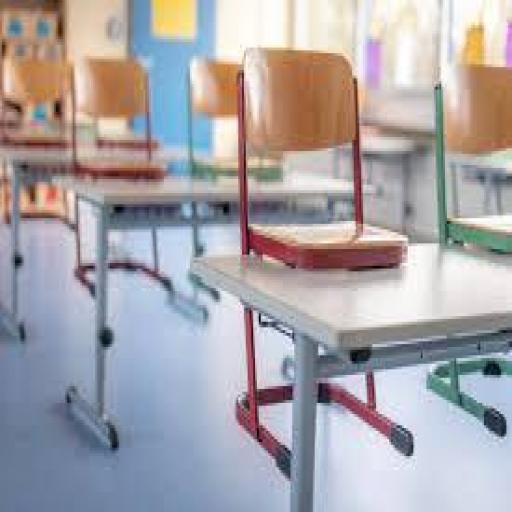chair: (228, 35, 414, 474), (58, 45, 182, 330)
